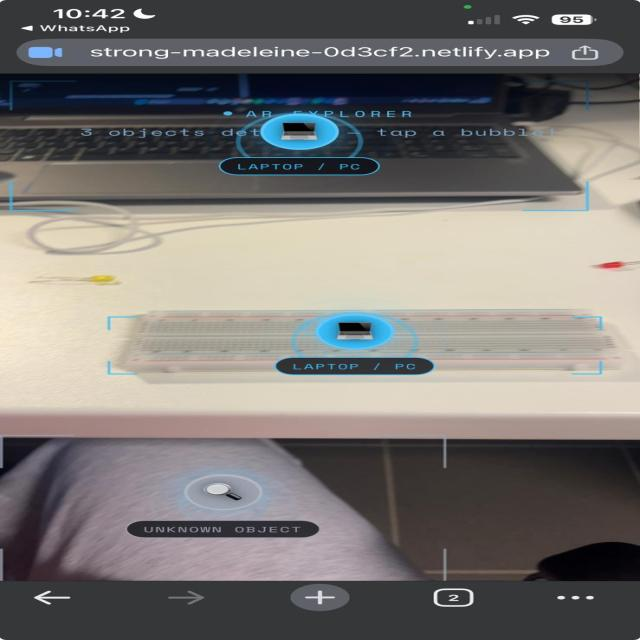BreadBoard: (99, 299, 640, 387)
REDLed: (561, 247, 632, 281)
